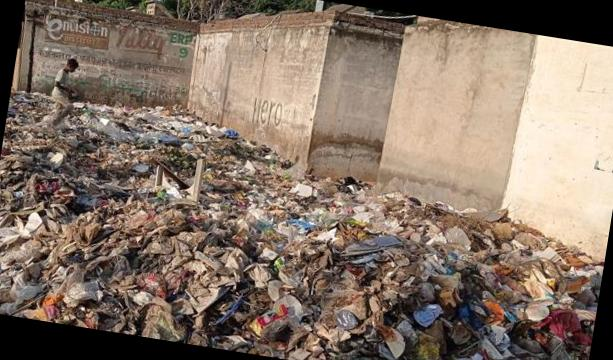trash: (0, 148, 604, 360)
